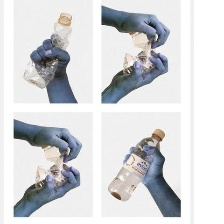bottle: (105, 125, 168, 204), (18, 10, 74, 89), (29, 138, 71, 193), (119, 26, 161, 79)
